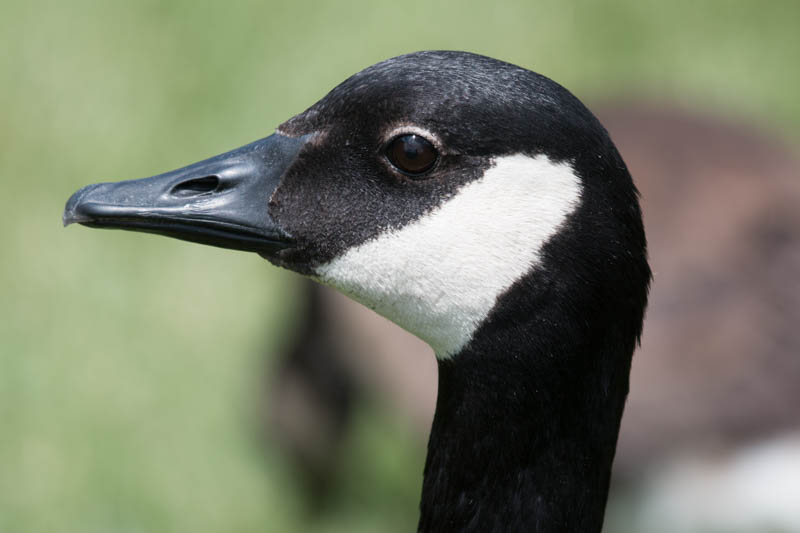goose-head: (65, 52, 650, 358)
